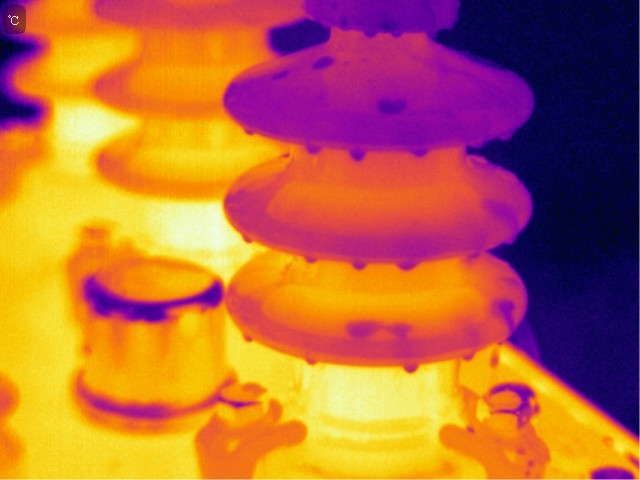Water: (344, 320, 414, 341), (478, 198, 520, 227), (376, 94, 411, 118), (494, 294, 512, 328), (311, 53, 337, 71), (301, 138, 325, 156), (394, 257, 421, 272), (240, 120, 257, 143), (489, 348, 506, 370), (399, 361, 421, 375), (409, 145, 431, 159), (301, 252, 321, 267), (352, 147, 368, 164), (462, 347, 478, 363), (351, 257, 369, 271), (241, 234, 255, 248), (305, 352, 319, 365), (242, 332, 256, 345), (389, 28, 404, 39), (365, 30, 378, 40)
